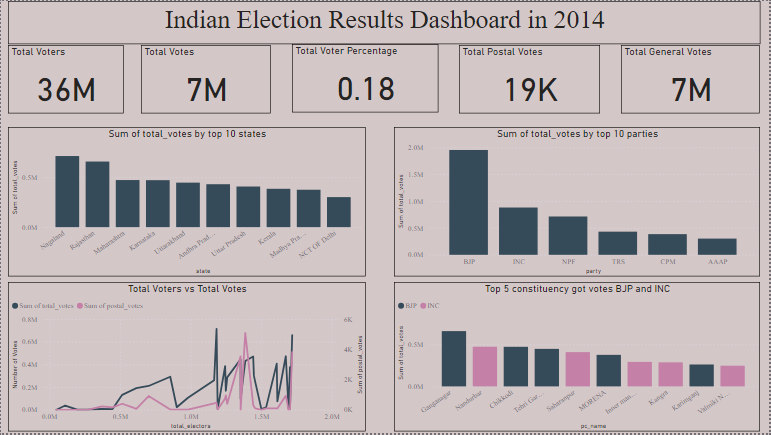

The page's visual inventory and layout, read from the dashboard file:
{"tool":"powerbi","page":{"name":"Page 1","canvas":[1280,720],"ordinal":0},"visuals":[{"type":"card","title":"Total Voters","fields":{"Values":["Sum(constituency_wise_results_2014.total_electors)"]},"box":[11,74,193,114],"z":0},{"type":"card","title":"Total Votes ","fields":{"Values":["Sum(constituency_wise_results_2014.total_votes)"]},"box":[233,74,216,114],"z":1000},{"type":"card","title":"Total Voter Percentage","fields":{"Values":["Avg(constituency_wise_results_2014.voter_turnout_pct)"]},"box":[485,72,244,114],"z":2000},{"type":"card","title":"Total Postal Votes","fields":{"Values":["Sum(constituency_wise_results_2014.postal_votes)"]},"box":[763,74,235,114],"z":3000},{"type":"card","title":"Total General Votes","fields":{"Values":["Sum(constituency_wise_results_2014.general_votes)"]},"box":[1034,74,231,114],"z":4000},{"type":"textbox","box":[11,0,1254,72],"z":5000},{"type":"columnChart","title":"Sum of total_votes by top 10 states","fields":{"Category":["constituency_wise_results_2014.state"],"Y":["Sum(constituency_wise_results_2014.total_votes)"]},"box":[11,210,596,249],"z":6000},{"type":"columnChart","title":"Sum of total_votes by top 10 parties","fields":{"Y":["Sum(constituency_wise_results_2014.total_votes)"],"Category":["constituency_wise_results_2014.party"]},"box":[655,210,610,249],"z":7000},{"type":"lineChart","title":"Total Voters vs Total Votes","fields":{"Y":["Sum(constituency_wise_results_2014.total_votes)"],"Category":["constituency_wise_results_2014.total_electors"],"Y2":["Sum(constituency_wise_results_2014.postal_votes)"]},"box":[11,469,596,249],"z":8000},{"type":"columnChart","title":"Top 5 constituency got votes BJP and INC ","fields":{"Y":["Sum(constituency_wise_results_2014.total_votes)"],"Category":["constituency_wise_results_2014.pc_name"],"Series":["constituency_wise_results_2014.party"]},"box":[655,469,610,249],"z":9000}]}

Visuals, with their boxes in screenshot pixels (x1, y1, x2, y2), scaled from the page's 1280x720 canvas onto the 771x435 screenshot:
"Total Voters" card: bbox=[7, 45, 123, 114]
"Total Votes " card: bbox=[140, 45, 270, 114]
"Total Voter Percentage" card: bbox=[292, 44, 439, 112]
"Total Postal Votes" card: bbox=[460, 45, 601, 114]
"Total General Votes" card: bbox=[623, 45, 762, 114]
textbox: bbox=[7, 0, 762, 44]
"Sum of total_votes by top 10 states" columnChart: bbox=[7, 127, 366, 277]
"Sum of total_votes by top 10 parties" columnChart: bbox=[395, 127, 762, 277]
"Total Voters vs Total Votes" lineChart: bbox=[7, 283, 366, 434]
"Top 5 constituency got votes BJP and INC " columnChart: bbox=[395, 283, 762, 434]
